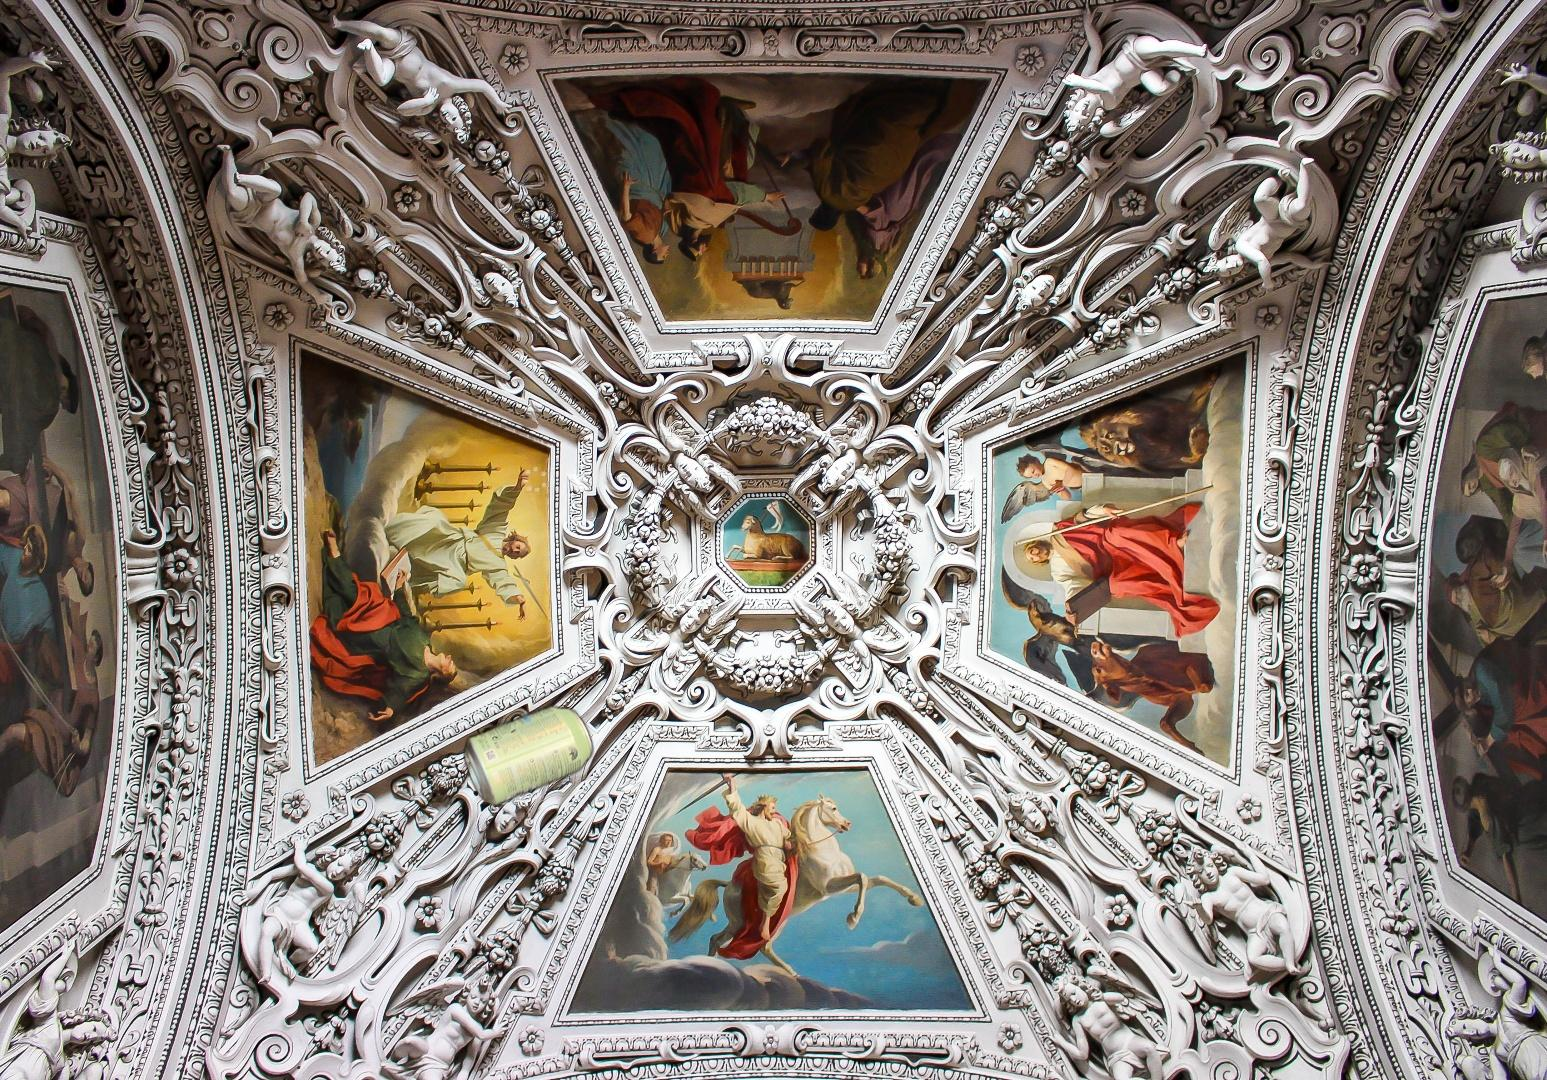metal-cans: (458, 700, 597, 812)
